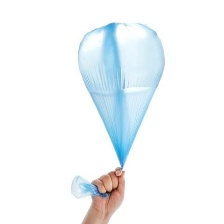plastic_bag: (67, 18, 167, 203)
